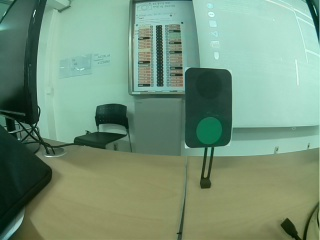green_light: (185, 68, 235, 149)
